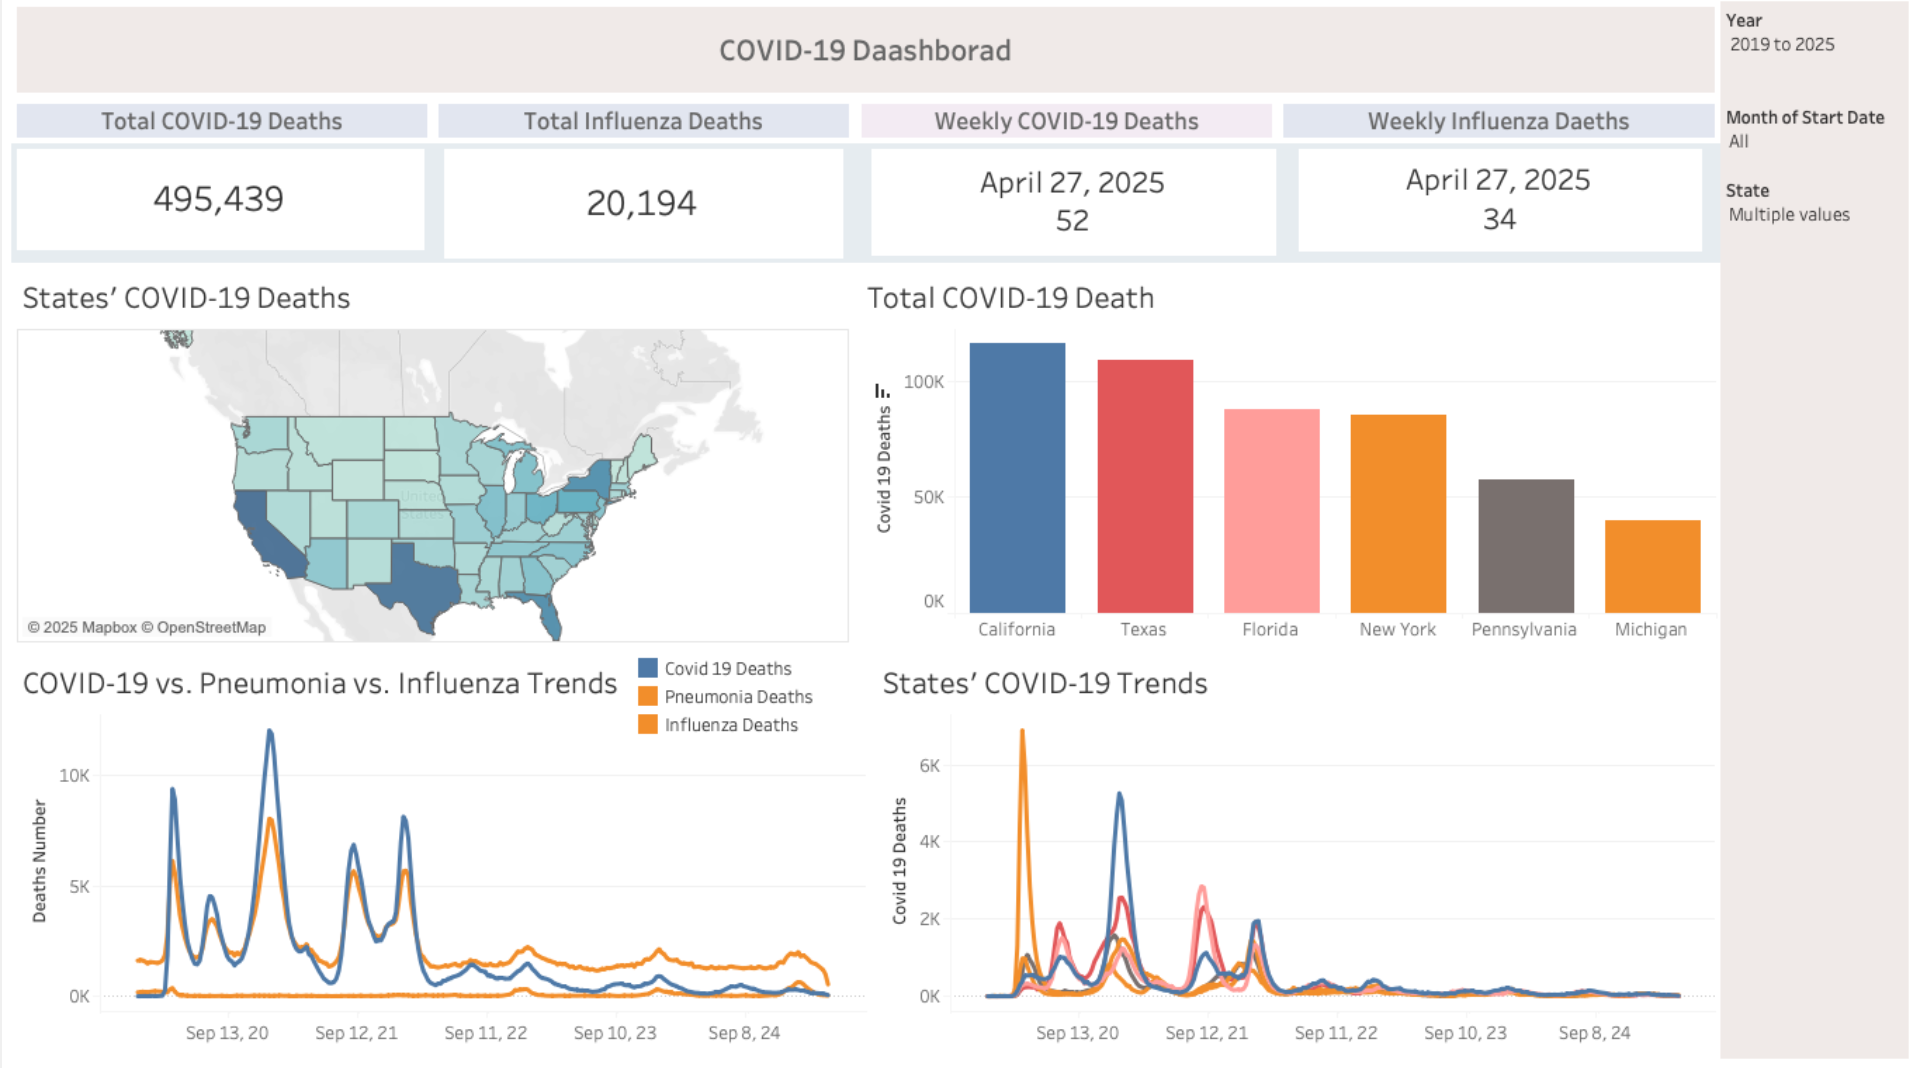

This screenshot's page, from the dashboard's own definition file:
{"tool":"tableau","page":{"name":"Dashboard 1","canvas":[1366,768],"ordinal":0},"visuals":[{"type":"text","box":[8,8,1216,69]},{"type":"filter","title":"Sheet 1","param":"[federated.1ah3ram04xcmgx17rpye51psmwaw].[none:year:qk]","box":[1224,8,134,69]},{"type":"text","box":[8,77,300.2,31.7]},{"type":"text","box":[308.3,77,300.2,31.7]},{"type":"text","box":[608.5,77,300.2,31.7]},{"type":"text","box":[908.7,77,315.3,31.7]},{"type":"filter","title":"Sheet 3","param":"[federated.1ah3ram04xcmgx17rpye51psmwaw].[mn:start_date:ok]","box":[1224,77,134,52]},{"type":"worksheet","title":"Sheet 5 (2)","mark":"Automatic","box":[8,109,304,85]},{"type":"worksheet","title":"Sheet 6","mark":"Automatic","box":[312,109,304,85]},{"type":"worksheet","title":"Sheet 8","mark":"Automatic","box":[616,109,304,85]},{"type":"worksheet","title":"Sheet 8 (2)","mark":"Automatic","box":[920,109,304,85]},{"type":"filter","title":"Sheet 4","param":"[federated.1ah3ram04xcmgx17rpye51psmwaw].[none:state:nk]","box":[1224,129,134,52]},{"type":"worksheet","title":"Sheet 1","mark":"Automatic","box":[8,194,600.5,274]},{"type":"worksheet","title":"Sheet 3","mark":"Automatic","rows":["covid_19_deaths"],"cols":["state"],"box":[608.5,194,615.5,274]},{"type":"worksheet","title":"Sheet 2","mark":"Automatic","cols":["start_date"],"box":[8,468,611.5,292]},{"type":"worksheet","title":"Sheet 4","mark":"Automatic","rows":["covid_19_deaths"],"cols":["start_date"],"box":[619.5,468,604.5,292]},{"type":"legend","title":"Sheet 2","param":"[federated.1ah3ram04xcmgx17rpye51psmwaw].[:Measure Names]","box":[451,472,140,81]}]}

Visuals, with their boxes in screenshot pixels (x1, y1, x2, y2), scaled from the page's 1366x768 canvas onto the 1916x1068 screenshot:
text: x1=11 y1=11 x2=1717 y2=107
"Sheet 1" filter: x1=1717 y1=11 x2=1905 y2=107
text: x1=11 y1=107 x2=432 y2=151
text: x1=432 y1=107 x2=854 y2=151
text: x1=854 y1=107 x2=1275 y2=151
text: x1=1275 y1=107 x2=1717 y2=151
"Sheet 3" filter: x1=1717 y1=107 x2=1905 y2=179
"Sheet 5 (2)" worksheet: x1=11 y1=152 x2=438 y2=270
"Sheet 6" worksheet: x1=438 y1=152 x2=864 y2=270
"Sheet 8" worksheet: x1=864 y1=152 x2=1290 y2=270
"Sheet 8 (2)" worksheet: x1=1290 y1=152 x2=1717 y2=270
"Sheet 4" filter: x1=1717 y1=179 x2=1905 y2=252
"Sheet 1" worksheet: x1=11 y1=270 x2=854 y2=651
"Sheet 3" worksheet: x1=854 y1=270 x2=1717 y2=651
"Sheet 2" worksheet: x1=11 y1=651 x2=869 y2=1057
"Sheet 4" worksheet: x1=869 y1=651 x2=1717 y2=1057
"Sheet 2" legend: x1=633 y1=656 x2=829 y2=769
